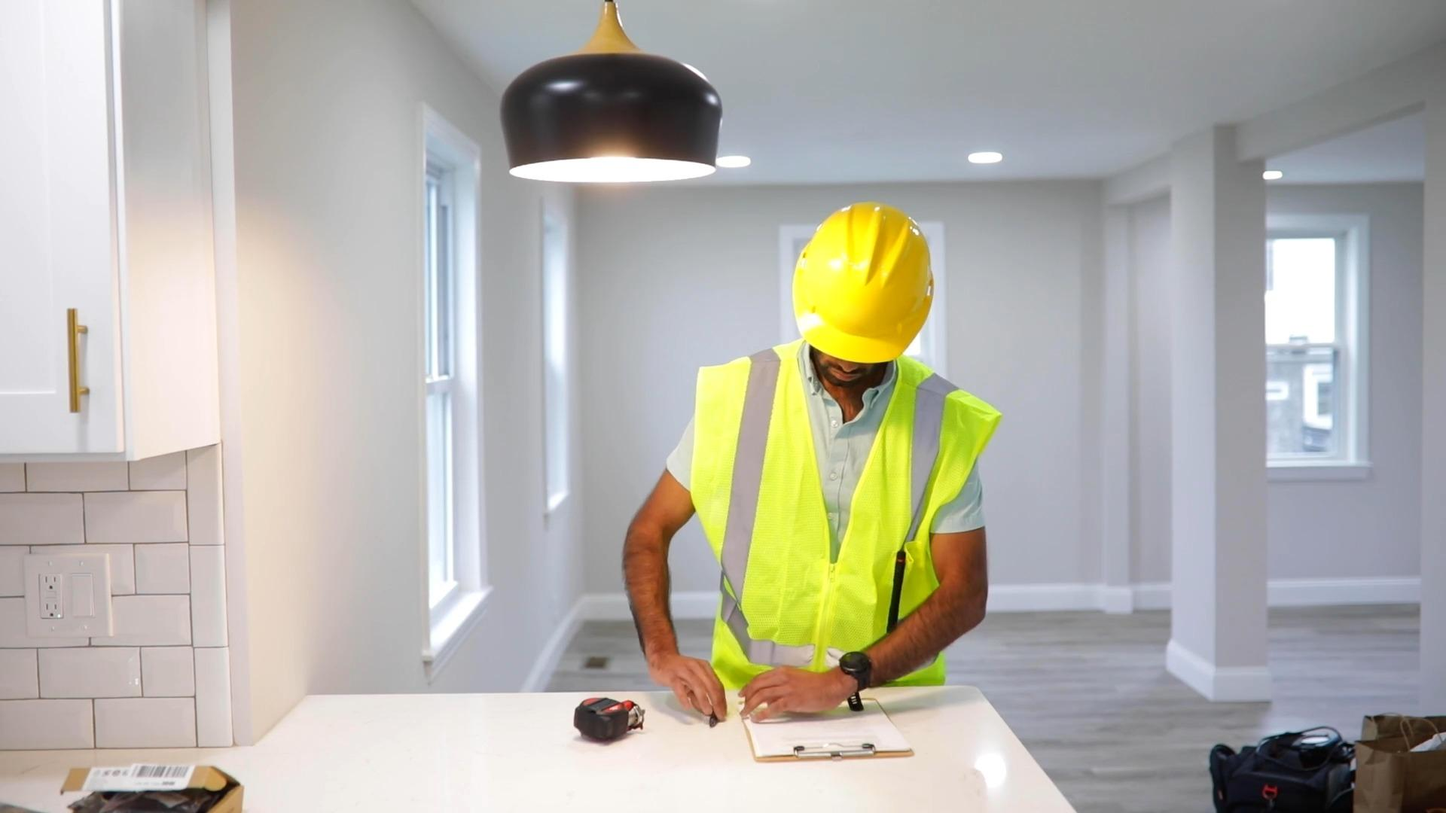Helmet: (793, 209, 935, 351)
Person: (621, 201, 1002, 723)
Safety Vest: (713, 352, 972, 684)
bare-arms: (729, 660, 840, 723), (659, 646, 738, 718)
